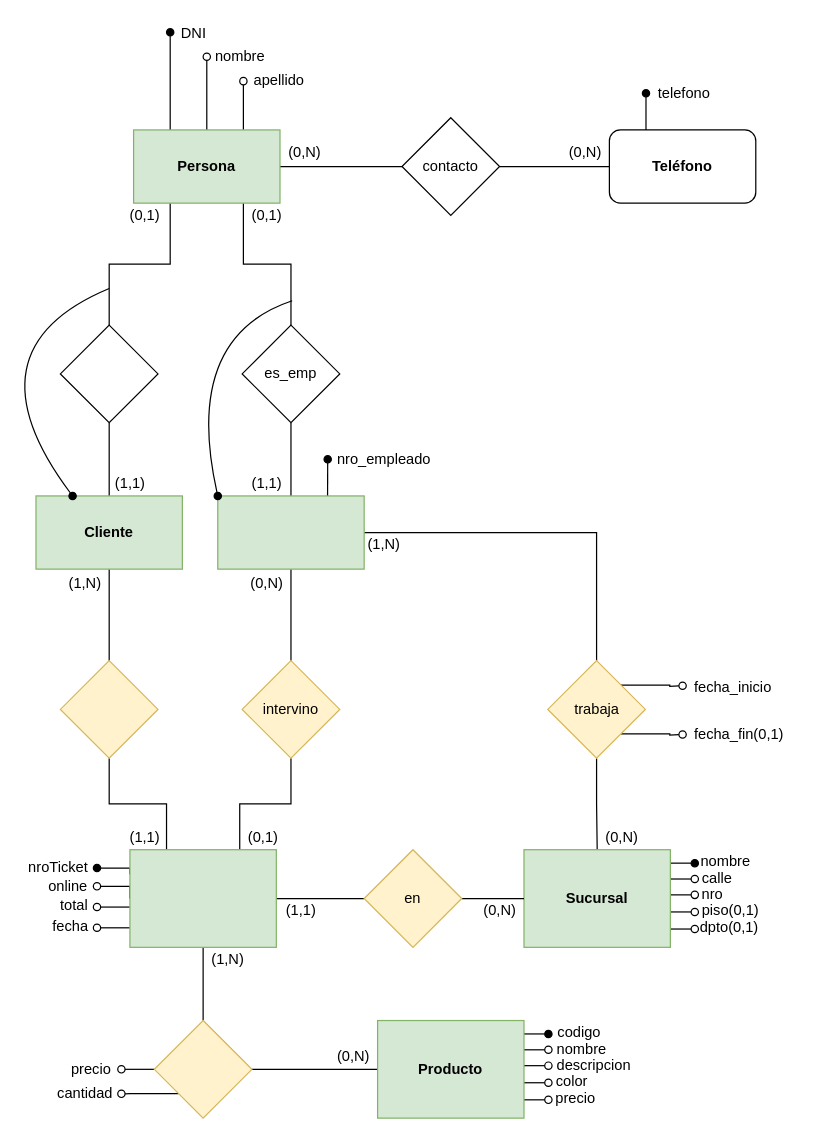
Some shapes in this 814 by 1139 pixel diagram are drawn without their labels. Each missing label, with the centre of its shape:
contiene: the point at 202,1068
de: the point at 108,708
Empleado: the point at 290,532
es_cliente: the point at 108,373
Venta: the point at 202,898
